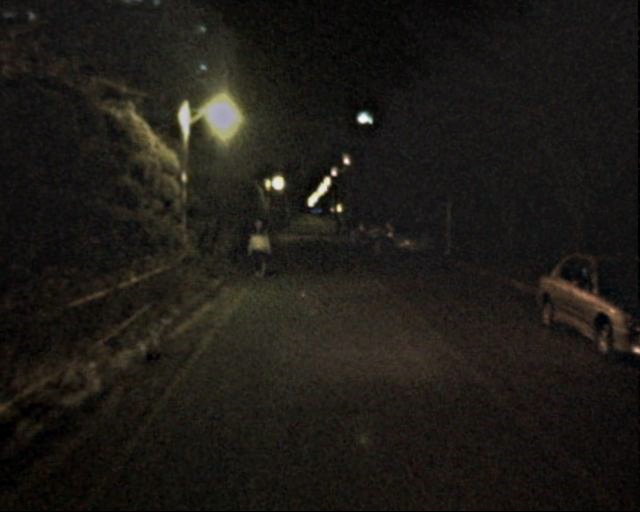person: (243, 216, 269, 279), (335, 219, 356, 249), (370, 222, 385, 259)
